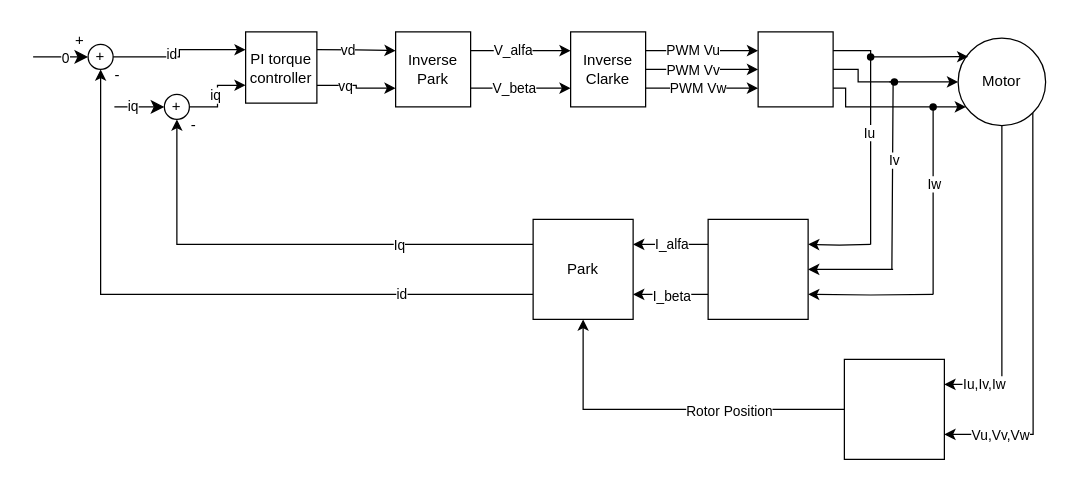
This 1068x481 diagram has some shape labels left out. Each missing label, with the centre of its shape:
"back-EMF" belongs at [893,408].
"Clarke" belongs at [757,268].
"Inverter" belongs at [795,69].
